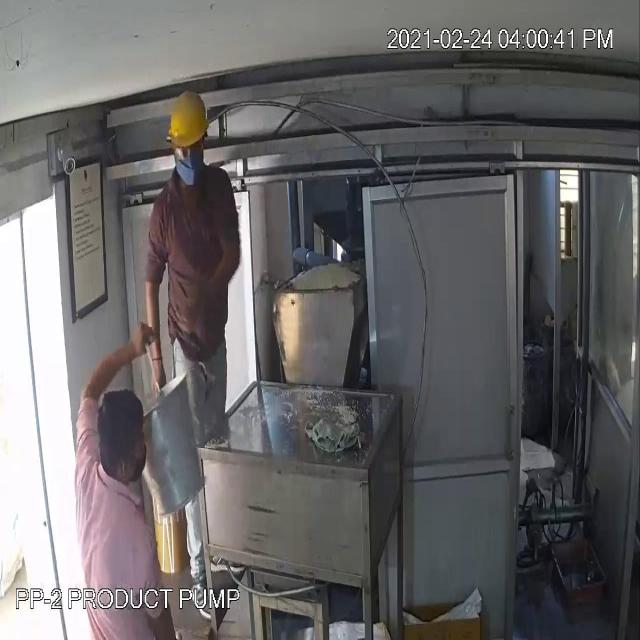helmet: (163, 86, 215, 151)
